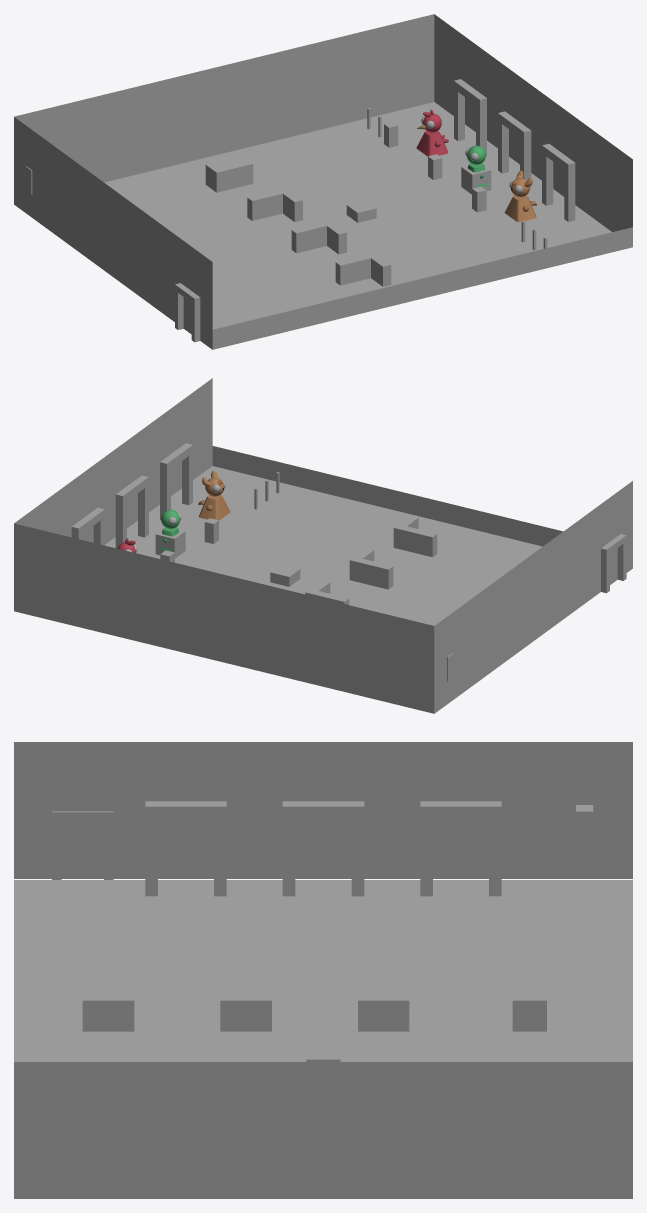
File: Scenery.fbx
3 views of the same model, one above another, from view 1: azimuth 30°, elevation 25°; view 2: azimuth 150°, elevation 25°; view 3: azimuth 270°, elevation 25° (orthographic). The views are drawn at different scales.
Parts seen in each view (by area): view 1: pPlane3, pPlane4, pPlane2, pCube20, pCube21, pCube11, pCube22, pCube9, pCube10, pCube12, pCube19, pCube1 (+3 smaller); view 2: pPlane3, pPlane4, pPlane2, pCube21, pCube20, pCube9, pCube11, pCube19, pCube22, pCube1, doguinho_geo, pCube13 (+1 smaller); view 3: pPlane3, pPlane4, pCube16, pCube18, pCube17, pCube11, pCube10, pCube9, pCube12, pCube19, pCube23.
Part boxes in pixels (bbox=[...]): pPlane3: bbox=[14, 14, 632, 349]; pPlane4: bbox=[104, 102, 611, 329]; pPlane2: bbox=[212, 227, 632, 349]; pCube20: bbox=[542, 143, 575, 221]; pCube21: bbox=[498, 111, 531, 188]; pCube11: bbox=[335, 252, 391, 286]; pCube22: bbox=[454, 79, 486, 155]; pCube9: bbox=[291, 220, 346, 254]; pCube10: bbox=[247, 188, 302, 221]; pCube12: bbox=[205, 156, 253, 192]; pCube19: bbox=[175, 283, 200, 342]; pCube1: bbox=[461, 165, 491, 194]; pPlane3: bbox=[14, 378, 632, 713]; pPlane4: bbox=[105, 466, 542, 625]; pPlane2: bbox=[212, 446, 563, 546]; pCube21: bbox=[115, 475, 148, 548]; pCube20: bbox=[160, 443, 192, 519]; pCube9: bbox=[349, 548, 393, 589]; pCube11: bbox=[393, 515, 437, 557]; pCube19: bbox=[601, 534, 626, 593]; pCube22: bbox=[71, 507, 104, 545]; pCube1: bbox=[155, 529, 185, 558]; doguinho_geo: bbox=[198, 494, 230, 520]; pCube13: bbox=[270, 564, 300, 586]; pPlane3: bbox=[14, 742, 632, 1198]; pPlane4: bbox=[14, 880, 632, 1061]; pCube16: bbox=[282, 801, 364, 896]; pCube18: bbox=[420, 801, 501, 896]; pCube17: bbox=[145, 801, 226, 896]; pCube11: bbox=[82, 971, 134, 1031]; pCube10: bbox=[358, 971, 409, 1031]; pCube9: bbox=[220, 971, 271, 1031]; pCube12: bbox=[512, 972, 546, 1031]; pCube19: bbox=[52, 811, 113, 879]; pCube23: bbox=[576, 805, 593, 849].
Size of the model in its own units: 22.3 by 4.89 by 18.
